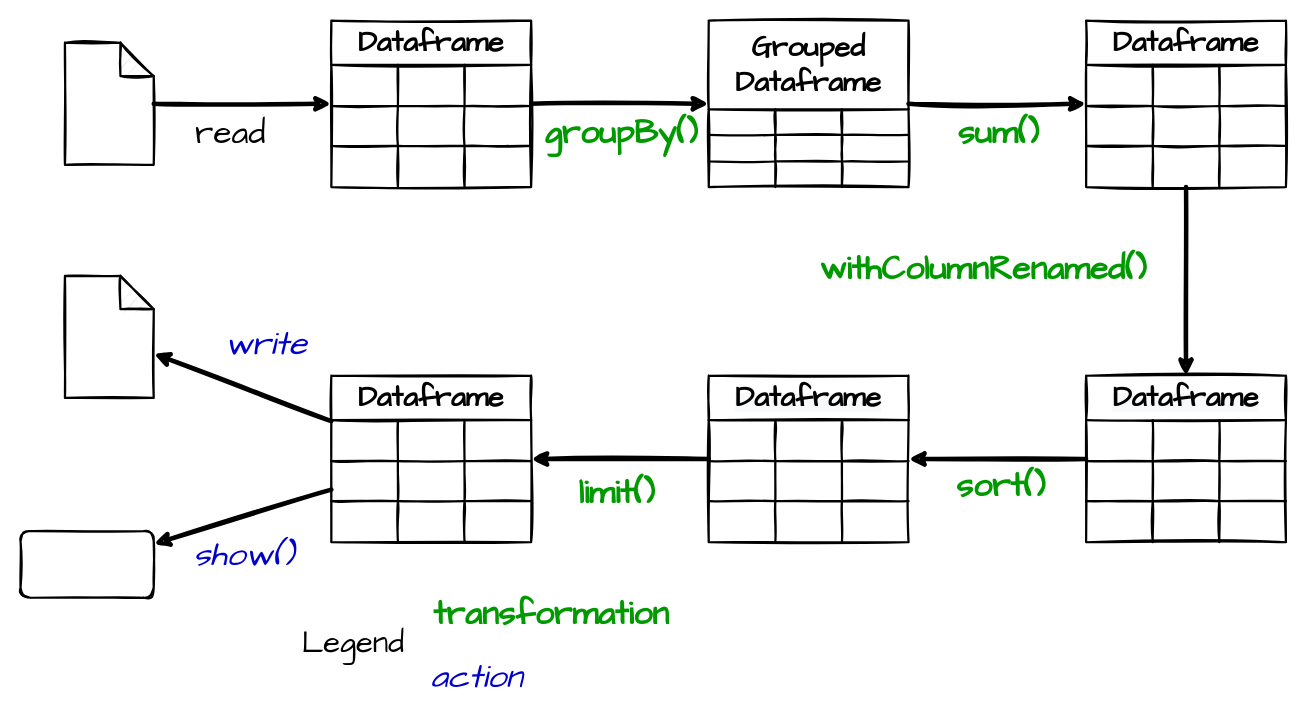
Image size: 1305x718. Some labels were removed from this diagram. The shapes that lost their labels are listed below. From the top down, each one's centre as x and y in pixels, then its label:
At [108,103]: "json file".
At [108,336]: "csv file".
At [86,563]: "Console".
